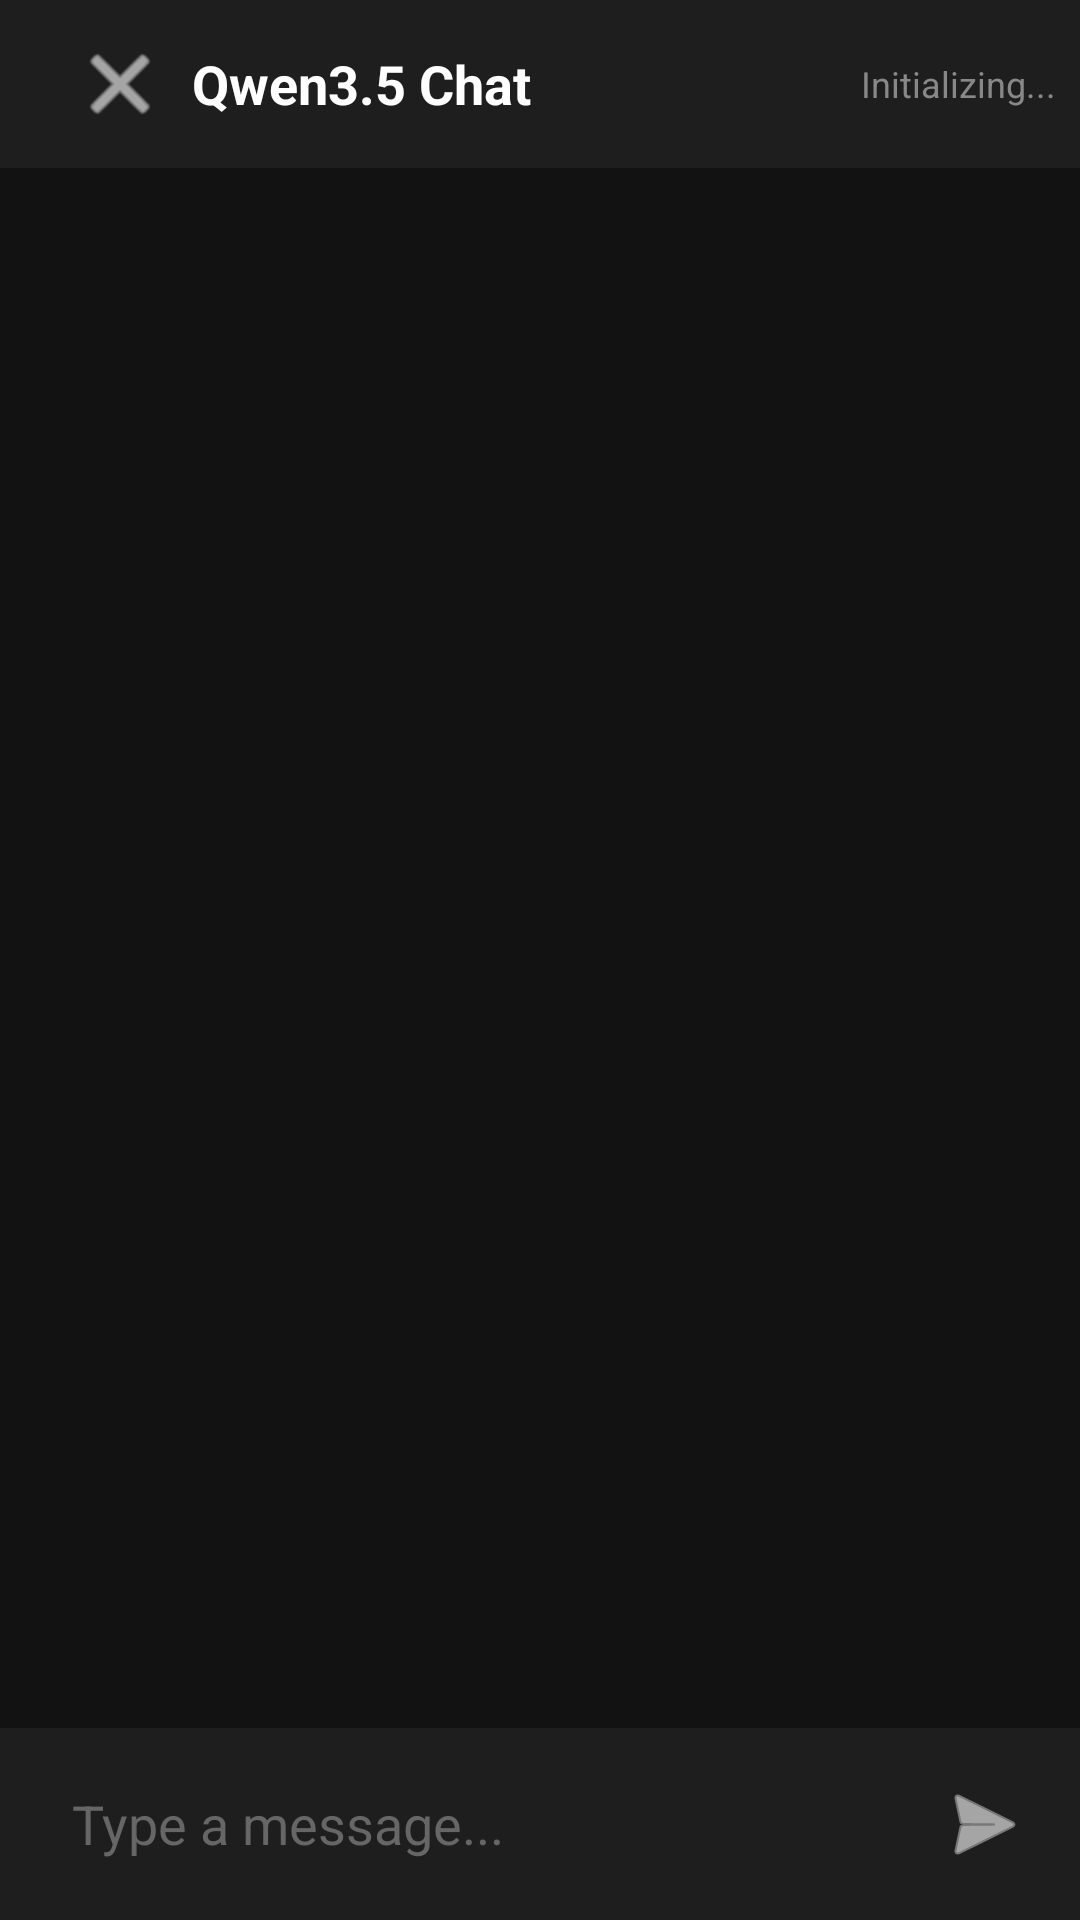

Where to tap for icons on this 1080px×1920px app screen, as [x,y]:
Send: [985,1824]
